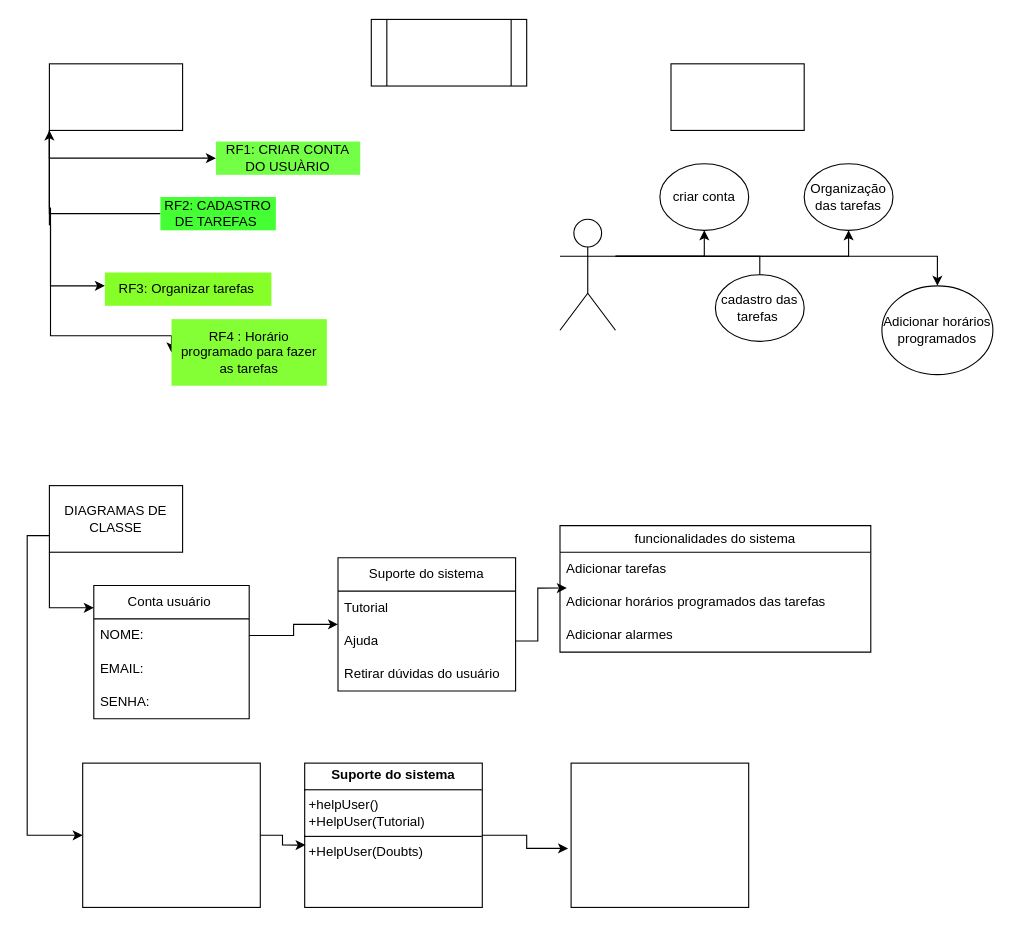
Some shapes in this 1012 by 927 pixel diagram are drawn without their labels. Each missing label, with the centre of its shape:
Conta do usuário +email : string + senha: string +Nome: string: the point at 171,834
DIAGRAMA DE CASO DE USO: the point at 737,96
Funcionalidades do sistema +AddUser(tasks) +AddUser(Schedule) +AddUser(alarm): the point at 659,834
REQUISITO FUNCIONAL:: the point at 115,96
SISTEMA DE GERENCIAMENTO DE TAREFA: the point at 448,52
USUÀRIO: the point at 587,274
